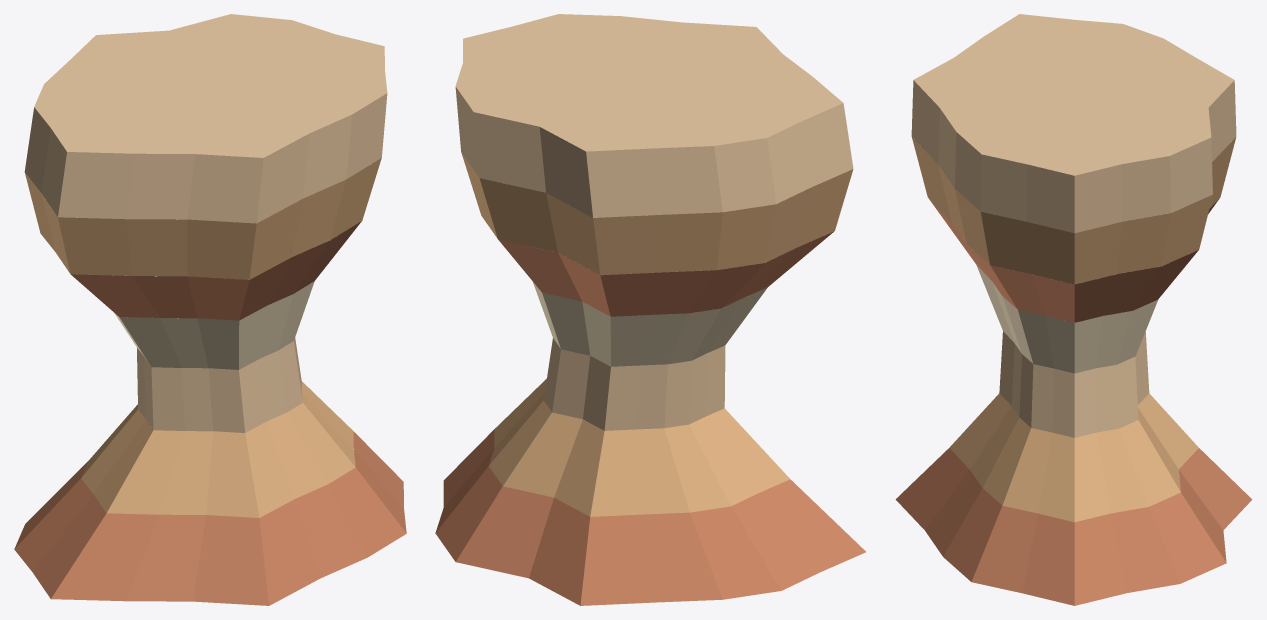
The model's file is desert-canyons-and-oases-pedestal-rock-6f78ff88__20894.glb.
3 renders of one model, left to right at view 1: azimuth 30°, elevation 25°; view 2: azimuth 150°, elevation 25°; view 3: azimuth 270°, elevation 25°, orthographic. The views are drawn at different scales.
Visible parts, largest first — view 1: pedestal-rock; view 2: pedestal-rock; view 3: pedestal-rock.
Boxes of the visible parts, x1,y1,x2,y2 form: pedestal-rock: (14, 14, 406, 605); pedestal-rock: (435, 14, 865, 605); pedestal-rock: (895, 14, 1252, 605).
Bounding box in the file's own units: 3.84 × 4.2 × 3.23.
